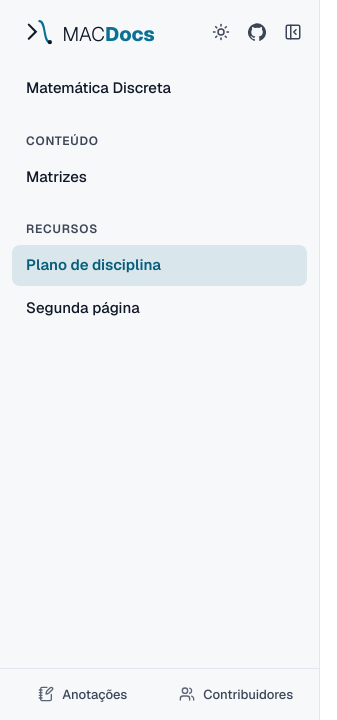
Test: Sidebar › collapsing hides the collapse button and reveals the expand rail button
The width and height of the screenshot is (337, 720).
Click the button named "Recolher barra lateral": (293, 32) top-left (275, 14), bottom-right (311, 50)
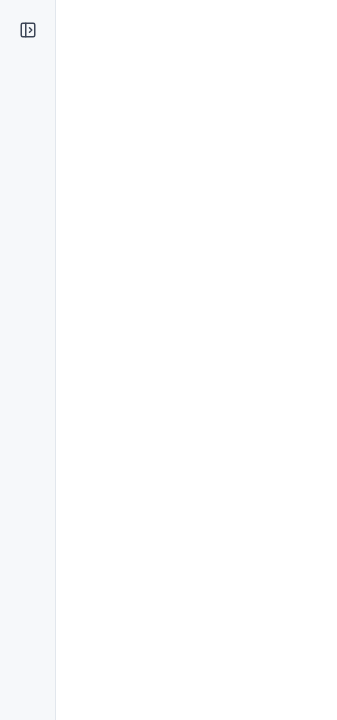
Now the button named "Abrir barra lateral" is shown, box top-left (10, 12), bottom-right (46, 48)
